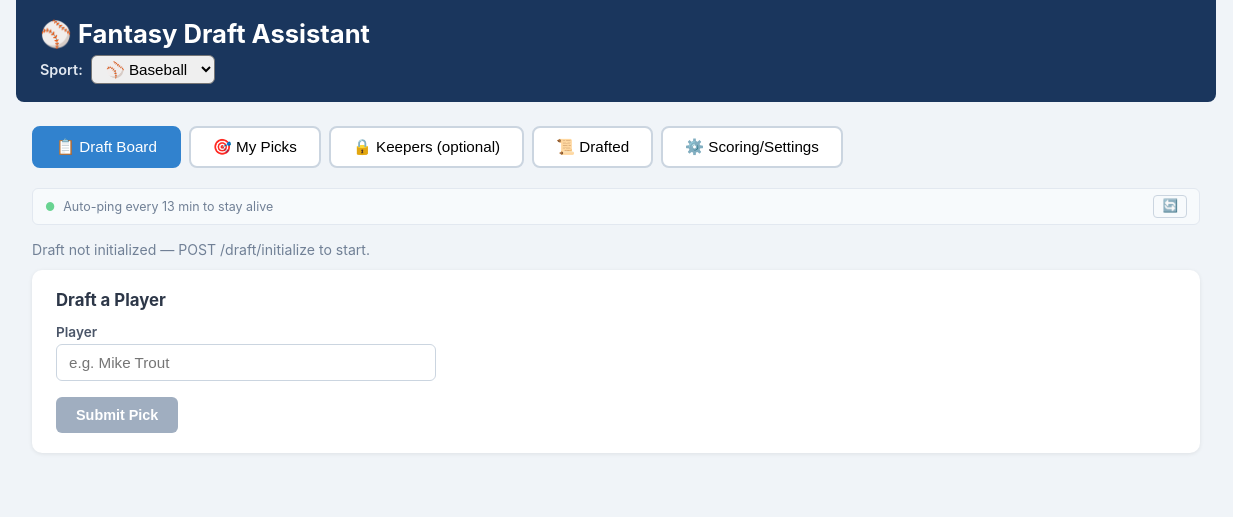
Draft tab — submit pick › selecting from dropdown shows selected-player div and hides hint
Type "Mi" into the field with placeholder "e.g. Mike Trout". click: (246, 363)
box: [56, 344, 436, 382]
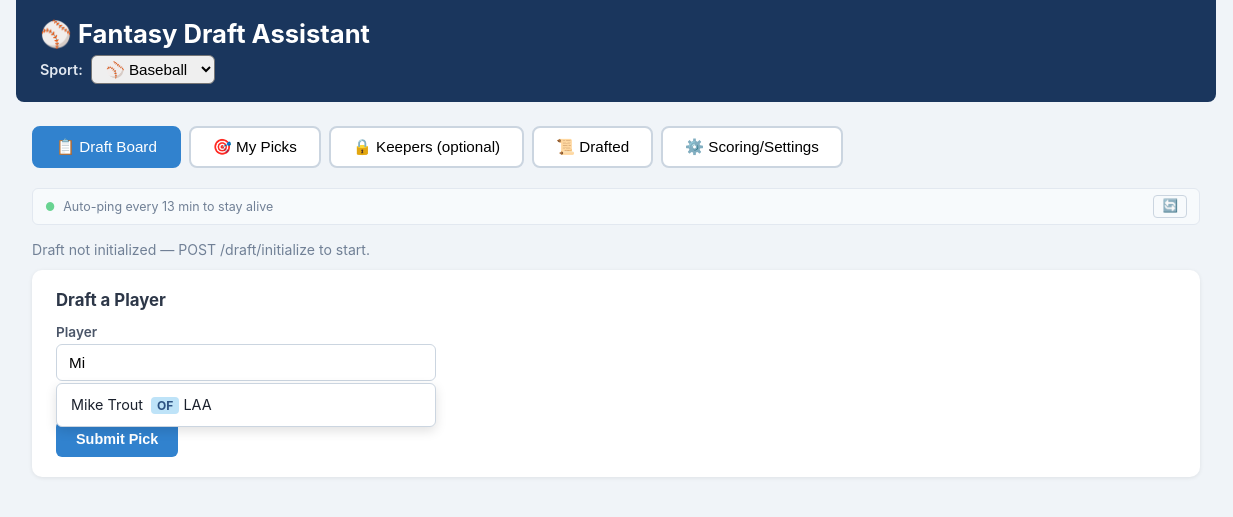
Expected: the list with test id "search-dropdown" is shown, [56, 384, 436, 428]
Click the list item "Mike Trout OF LAA". click: (141, 406)
box: [71, 396, 212, 414]
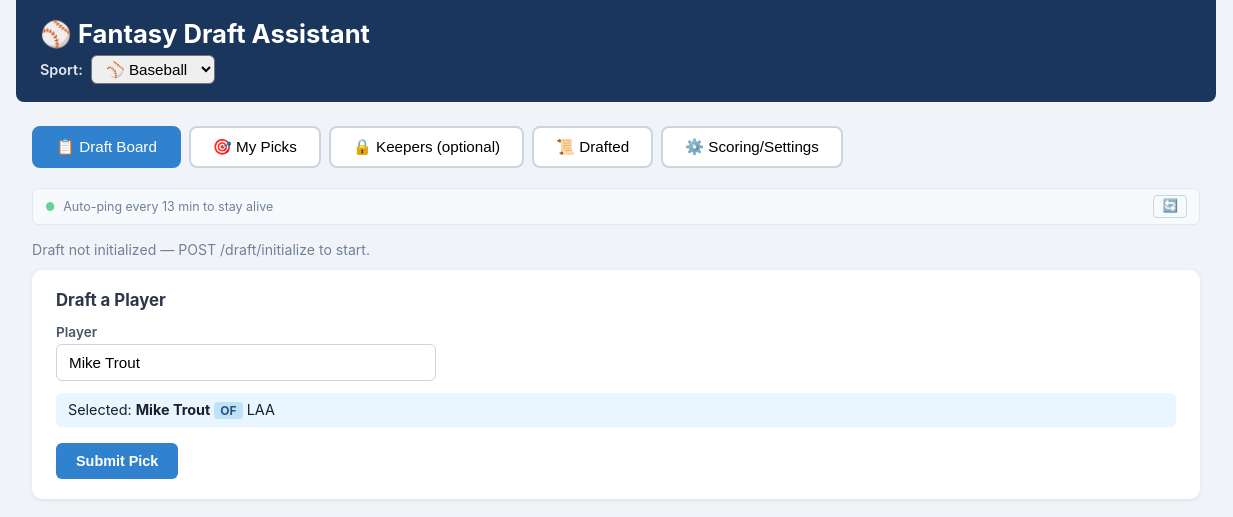
Expected: the element with test id "selected-player" shows "Mike Trout", [136, 402, 210, 418]
Expected: the text with test id "pending-pick-hint" is gone
